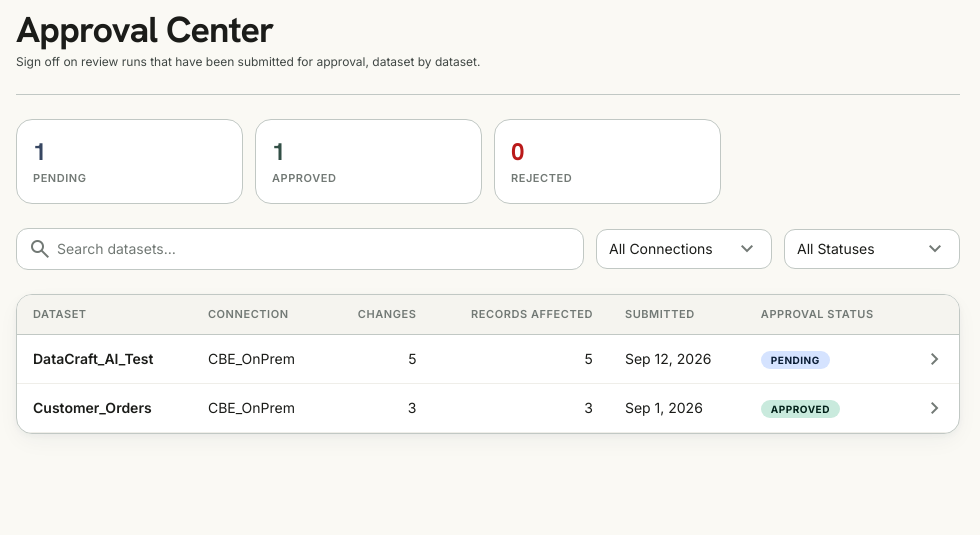
Test: ApprovalCenterMasterView › filters by approval status
Click the button with aria-label "Filter by status" at (872, 248), box [784,228,960,268]
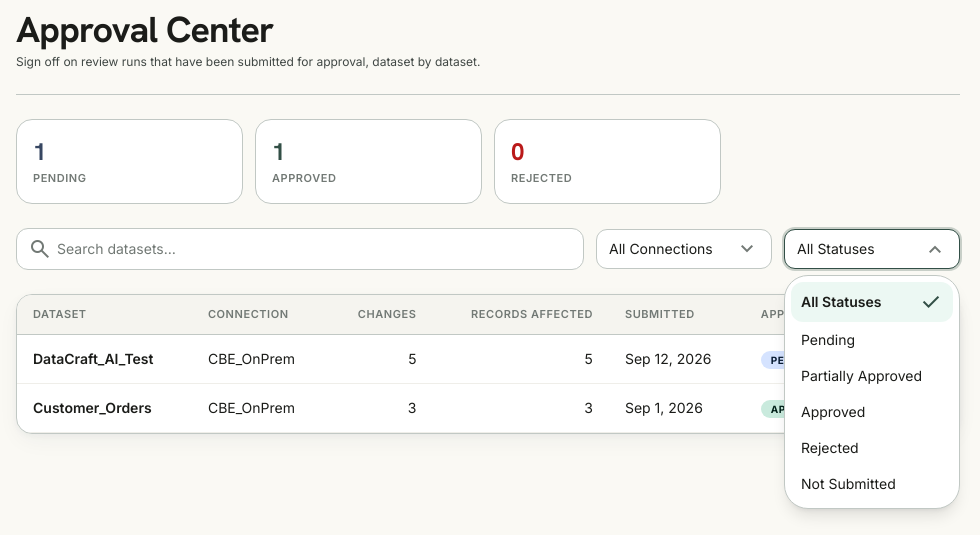
Click the option "Approved" at (833, 411), box [801,402,865,420]
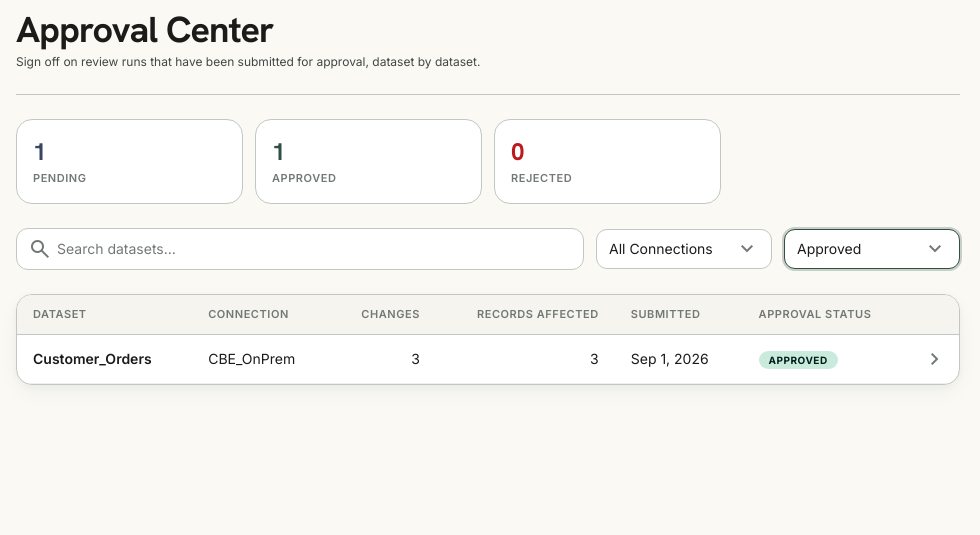
Expected: the text "Customer_Orders" is shown, [33,350,152,367]
Now the button "DataCraft_AI_Test" is gone
